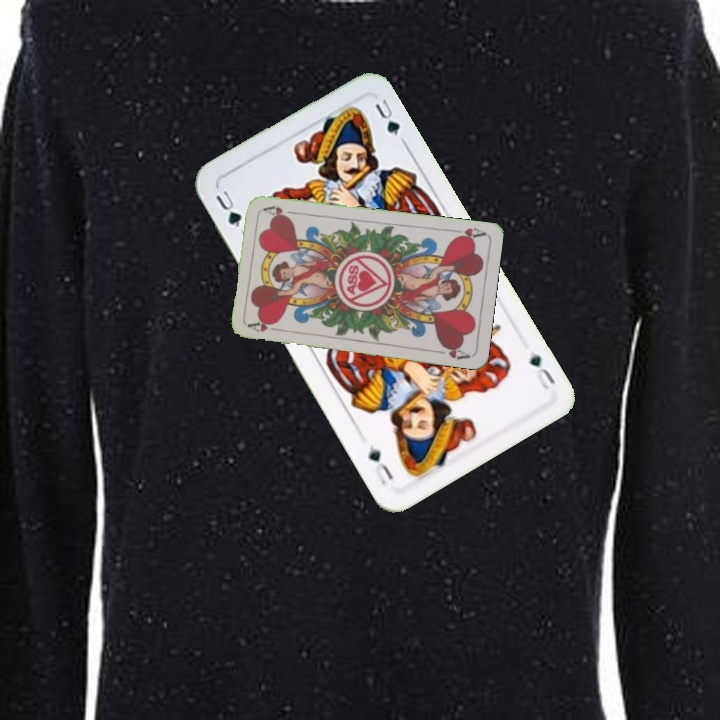GU: (525, 346, 558, 393), (211, 184, 244, 230)
HA: (447, 223, 487, 243), (245, 318, 286, 335)
